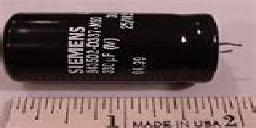Electrolytic Capacitor: (2, 6, 245, 88)
